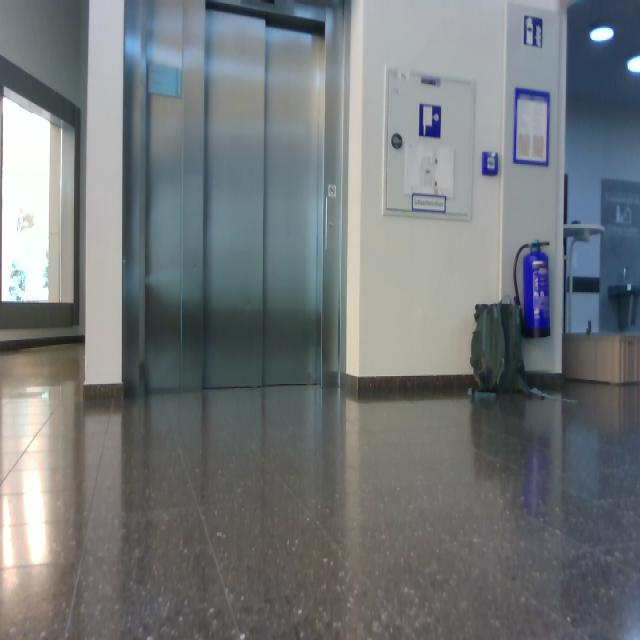door: (123, 1, 344, 396)
fire extinguisher: (513, 240, 551, 338)
light bulb: (17, 208, 35, 233), (590, 25, 615, 42), (627, 55, 640, 75)
tiled floor: (2, 344, 639, 638)
